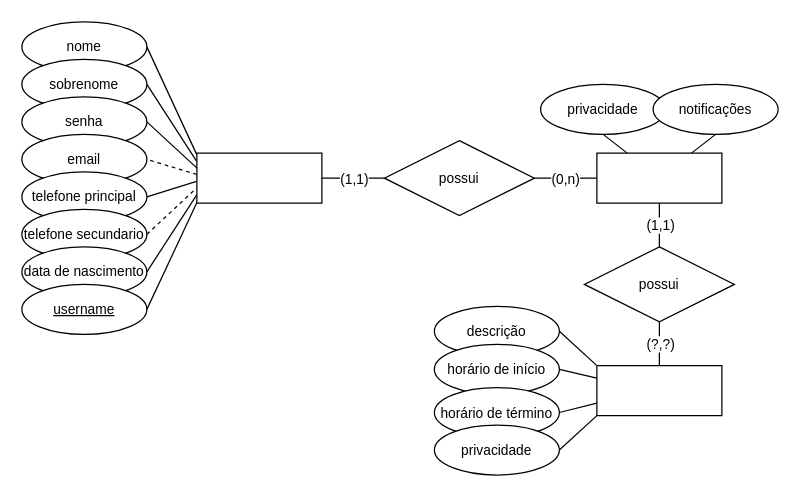
The diagram is 800 pixels wide and 498 high, and some of its shapes have lost their labels. Here are the shapes that lost their labels. From the top down, the box of each, then its label:
(196, 152, 322, 203): Estudante
(596, 152, 722, 203): Cronograma
(596, 364, 722, 416): Tarefa
